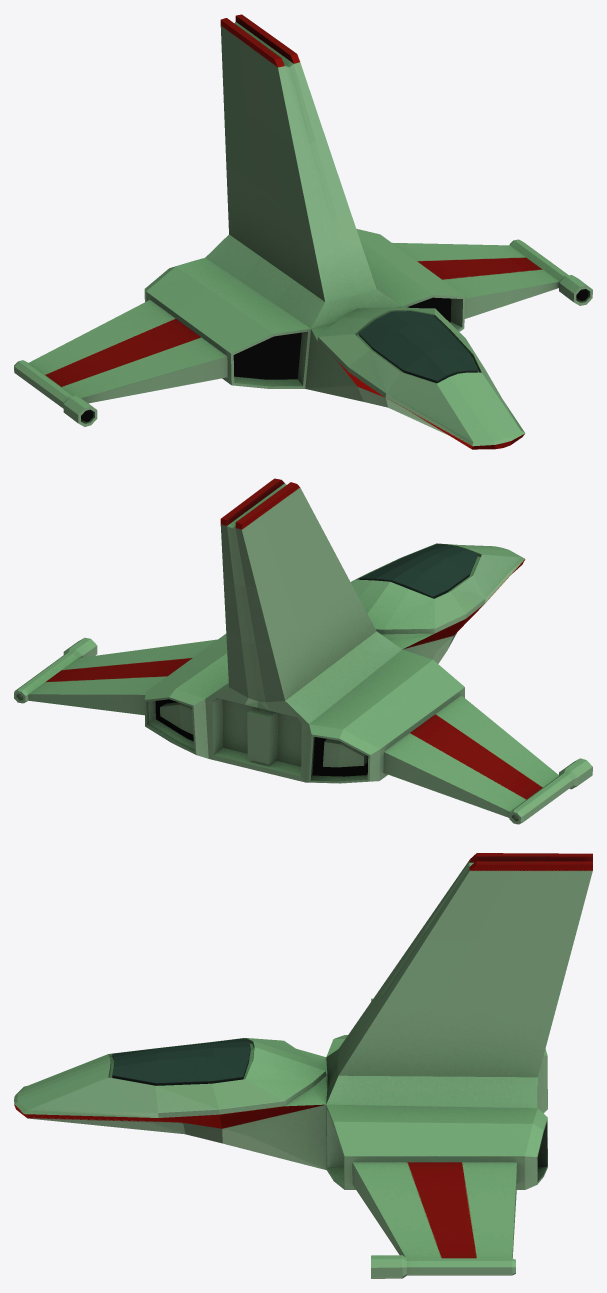
The model's file is SpaceShip.fbx.
3 renders of one model, top to bottom at view 1: azimuth 30°, elevation 25°; view 2: azimuth 150°, elevation 25°; view 3: azimuth 270°, elevation 25°, orthographic. The views are drawn at different scales.
Parts seen in each view (by area): view 1: Spaceship; view 2: Spaceship; view 3: Spaceship.
Boxes of the visible parts, <box> form: Spaceship: <box>14,14,592,449</box>; Spaceship: <box>14,478,592,824</box>; Spaceship: <box>14,853,592,1278</box>.
Bounding box in the file's own units: 53.19 × 26.96 × 48.76.
